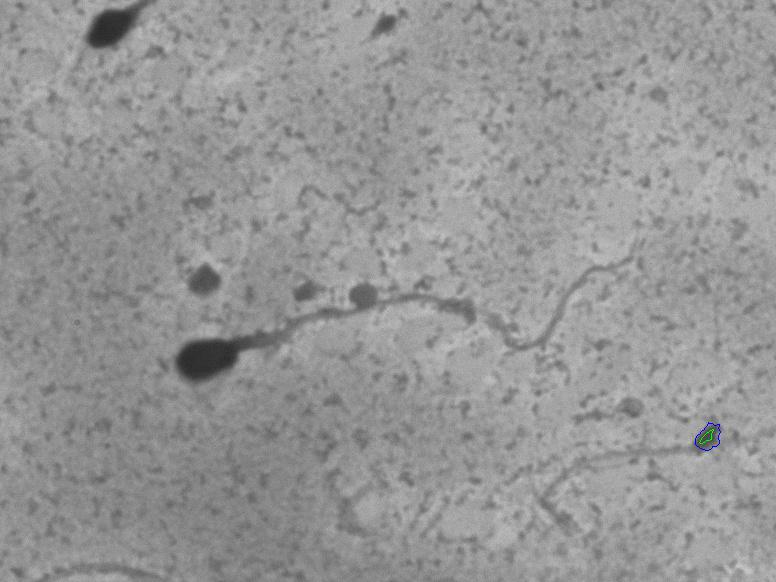Abnormal: (135, 227, 651, 429)
